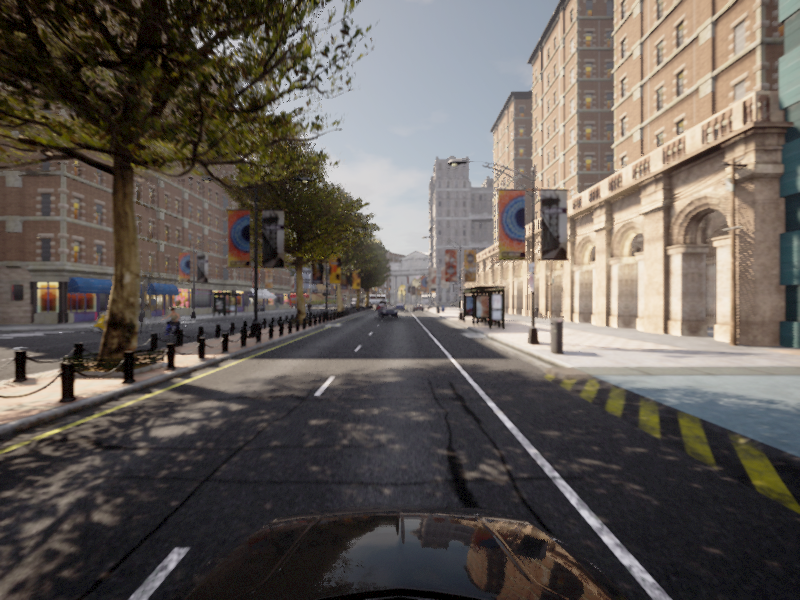vehicle: (154, 307, 188, 341), (89, 306, 130, 334), (376, 306, 398, 318)
